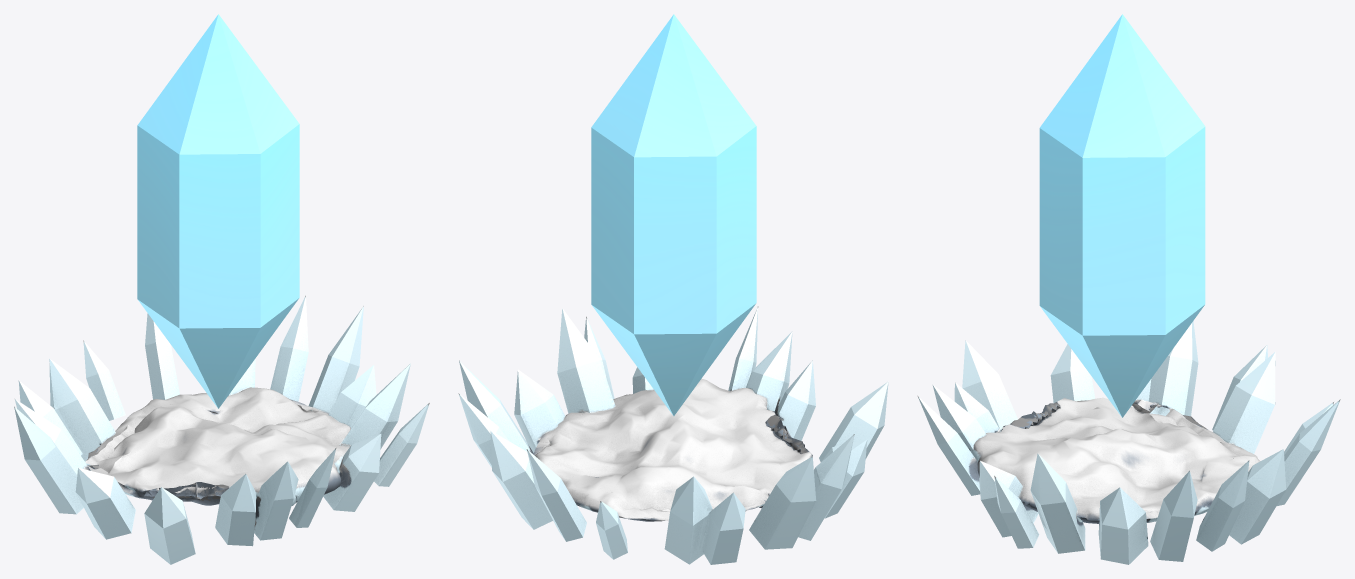
File: mineral_cero_absoluto.fbx
3 renders of one model, left to right at view 1: azimuth 30°, elevation 25°; view 2: azimuth 150°, elevation 25°; view 3: azimuth 270°, elevation 25°, orthographic. The views are drawn at different scales.
Parts seen in each view (by area): view 1: mineral_cero_absoluto, mineral_cero_absoluto_cristal; view 2: mineral_cero_absoluto, mineral_cero_absoluto_cristal; view 3: mineral_cero_absoluto, mineral_cero_absoluto_cristal.
Part boxes in pixels (x1,y1,x2,y2): mineral_cero_absoluto: [14, 295, 429, 564]; mineral_cero_absoluto_cristal: [137, 14, 299, 408]; mineral_cero_absoluto: [458, 306, 888, 564]; mineral_cero_absoluto_cristal: [591, 14, 756, 415]; mineral_cero_absoluto: [917, 321, 1340, 564]; mineral_cero_absoluto_cristal: [1039, 14, 1205, 417].
Bounding box in the file's own units: 3.36 × 4.15 × 3.27.
2 materials, 2 textured.
